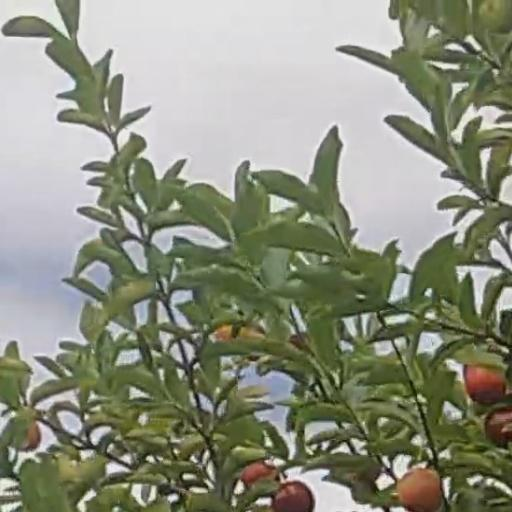acerola: (399, 469, 439, 509), (466, 368, 505, 407), (273, 481, 308, 512), (487, 414, 512, 446), (243, 462, 268, 481)
